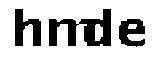d: (84, 7, 116, 51)
e: (118, 14, 150, 52)
h: (7, 4, 43, 53)
m: (46, 15, 90, 51)
